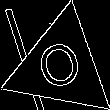O_S: (32, 35, 89, 98)
